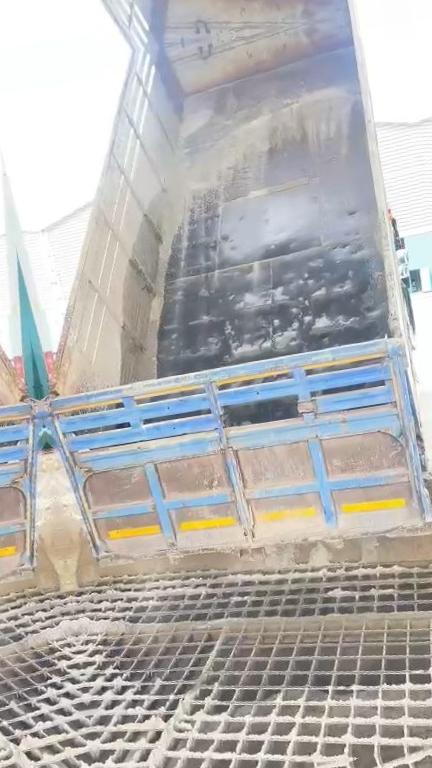sand: (137, 90, 355, 378), (75, 596, 432, 637), (63, 530, 205, 590), (135, 692, 194, 768), (184, 111, 210, 133)
